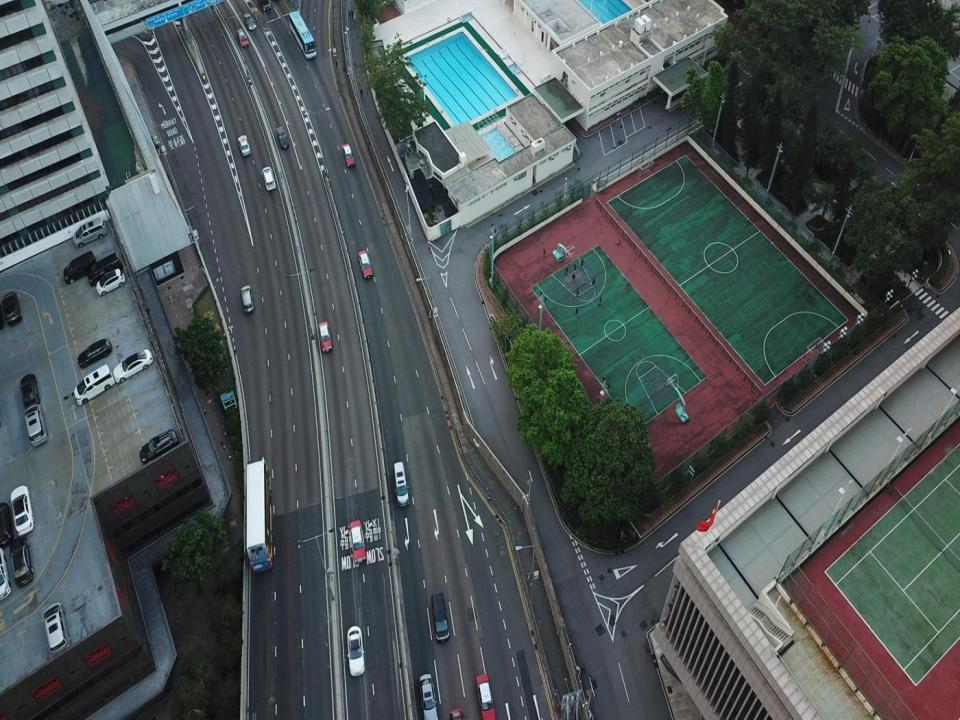bus: (246, 455, 274, 573), (288, 10, 317, 59)
car: (43, 601, 71, 656), (139, 429, 179, 464), (112, 349, 153, 382), (10, 485, 35, 536), (9, 536, 34, 586), (24, 404, 49, 448), (77, 337, 112, 368), (476, 673, 496, 719), (347, 625, 365, 675), (431, 592, 449, 642), (420, 673, 439, 719), (96, 268, 125, 296), (1, 292, 22, 327), (20, 373, 40, 406), (350, 520, 366, 561), (0, 502, 14, 548), (1, 547, 11, 603), (318, 320, 331, 352), (359, 251, 373, 280), (240, 284, 253, 314), (261, 166, 276, 190), (342, 143, 355, 167), (276, 126, 290, 148), (238, 134, 250, 156), (243, 13, 256, 30), (237, 28, 248, 47), (258, 0, 271, 10)
van: (74, 364, 115, 404), (87, 252, 125, 285), (63, 250, 97, 284), (73, 217, 108, 248), (394, 460, 408, 505)
